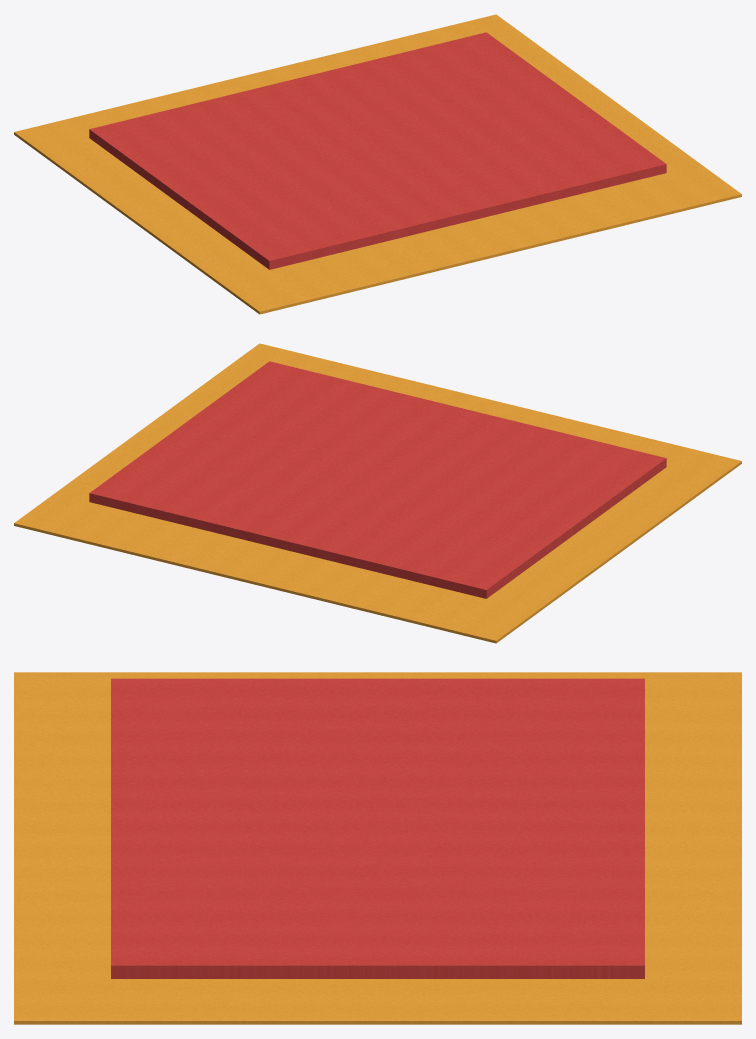
Rendered from 215_L114_Fault_F2_FanTach_Stuck.obj.
3 renders of one model, top to bottom at view 1: azimuth 30°, elevation 25°; view 2: azimuth 150°, elevation 25°; view 3: azimuth 270°, elevation 25°, orthographic. The views are drawn at different scales.
Parts seen in each view (by area): view 1: 215_L114_Fault_F2_FanTach_Stuck__PSMAT__Indicator_Red, 215_L114_Fault_F2_FanTach_Stuck__PSMAT__Indicator_Amber; view 2: 215_L114_Fault_F2_FanTach_Stuck__PSMAT__Indicator_Red, 215_L114_Fault_F2_FanTach_Stuck__PSMAT__Indicator_Amber; view 3: 215_L114_Fault_F2_FanTach_Stuck__PSMAT__Indicator_Red, 215_L114_Fault_F2_FanTach_Stuck__PSMAT__Indicator_Amber.
Boxes of the visible parts, box(x1,y1,x2,y2) form: 215_L114_Fault_F2_FanTach_Stuck__PSMAT__Indicator_Red: box(89, 32, 666, 269); 215_L114_Fault_F2_FanTach_Stuck__PSMAT__Indicator_Amber: box(14, 14, 741, 314); 215_L114_Fault_F2_FanTach_Stuck__PSMAT__Indicator_Red: box(89, 361, 666, 598); 215_L114_Fault_F2_FanTach_Stuck__PSMAT__Indicator_Amber: box(14, 343, 741, 643); 215_L114_Fault_F2_FanTach_Stuck__PSMAT__Indicator_Red: box(111, 678, 644, 978); 215_L114_Fault_F2_FanTach_Stuck__PSMAT__Indicator_Amber: box(14, 672, 741, 1024).
Bounding box in the file's own units: 0.017 × 0.000645 × 0.015.
2 materials, 2 textured.
